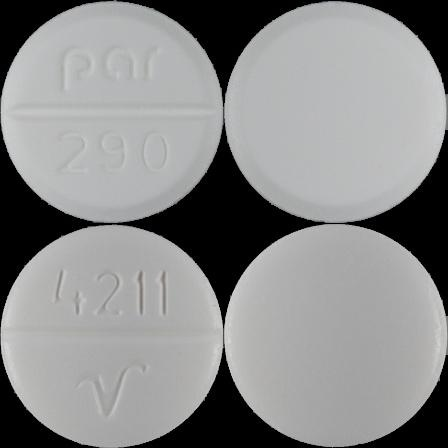63739-165: (0, 0, 224, 224)
